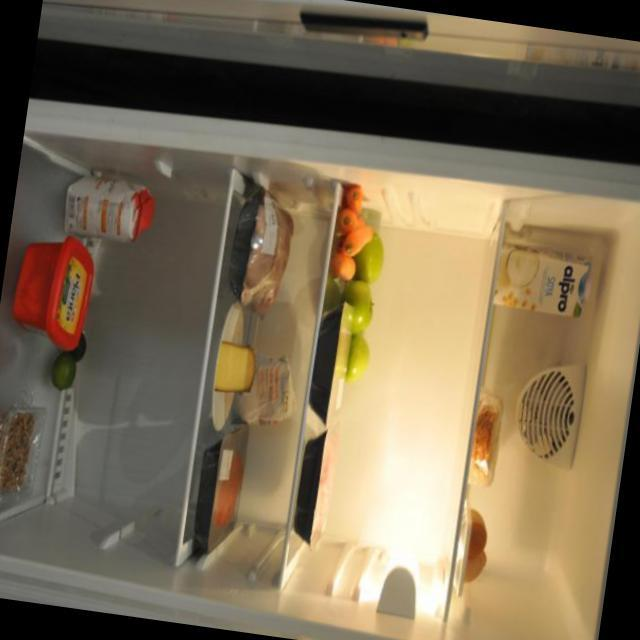Carne pollo: (205, 188, 304, 311)
Huevos: (442, 497, 497, 596)
Manzana: (338, 230, 397, 384)
Queso: (199, 330, 277, 411)
